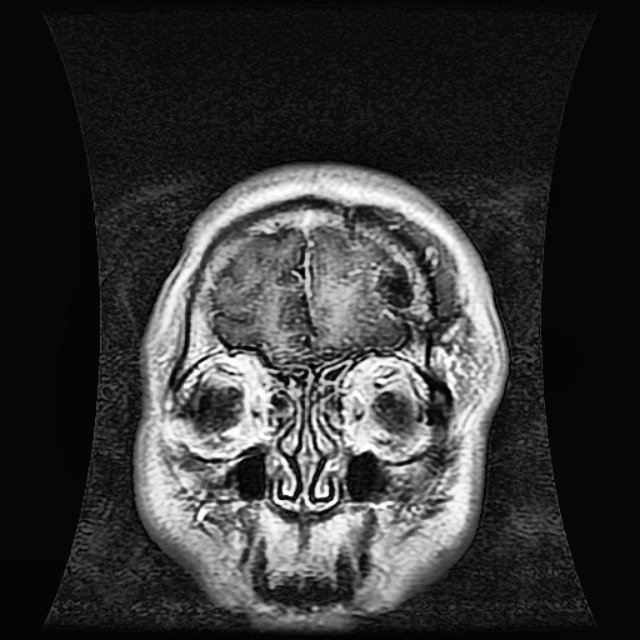Glioma: (374, 259, 415, 308)
